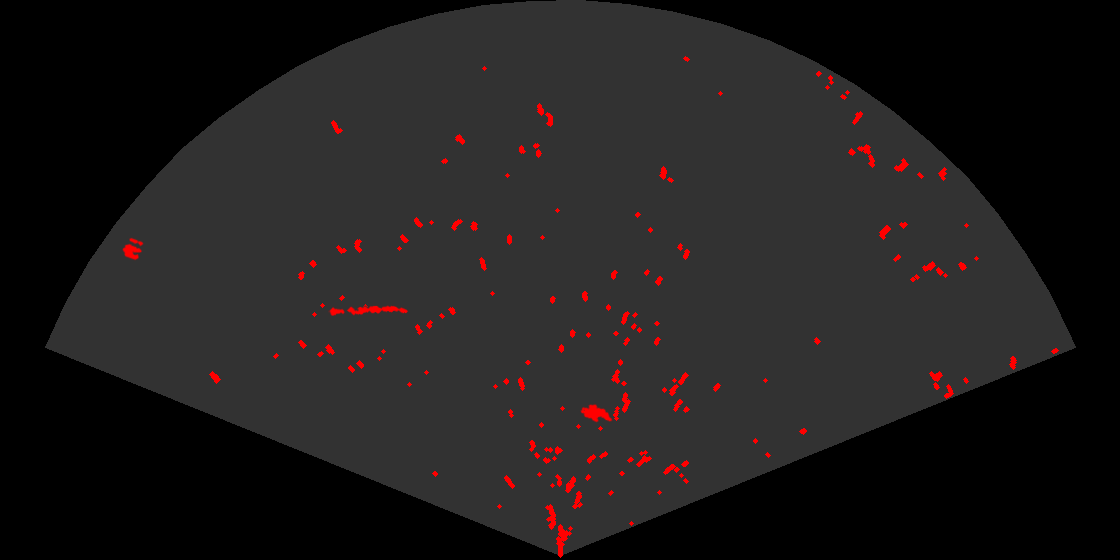AUV: (579, 402, 614, 424)
ball: (121, 236, 145, 262)
chain: (328, 304, 409, 317)
